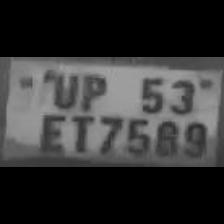3: (166, 74, 196, 114)
5: (135, 74, 167, 114), (121, 114, 151, 156)
7: (92, 110, 122, 156)
8: (152, 116, 178, 159)
9: (179, 116, 209, 159)
E: (34, 111, 66, 153)
P: (76, 69, 110, 109)
T: (64, 110, 94, 154)
U: (44, 69, 80, 109)
